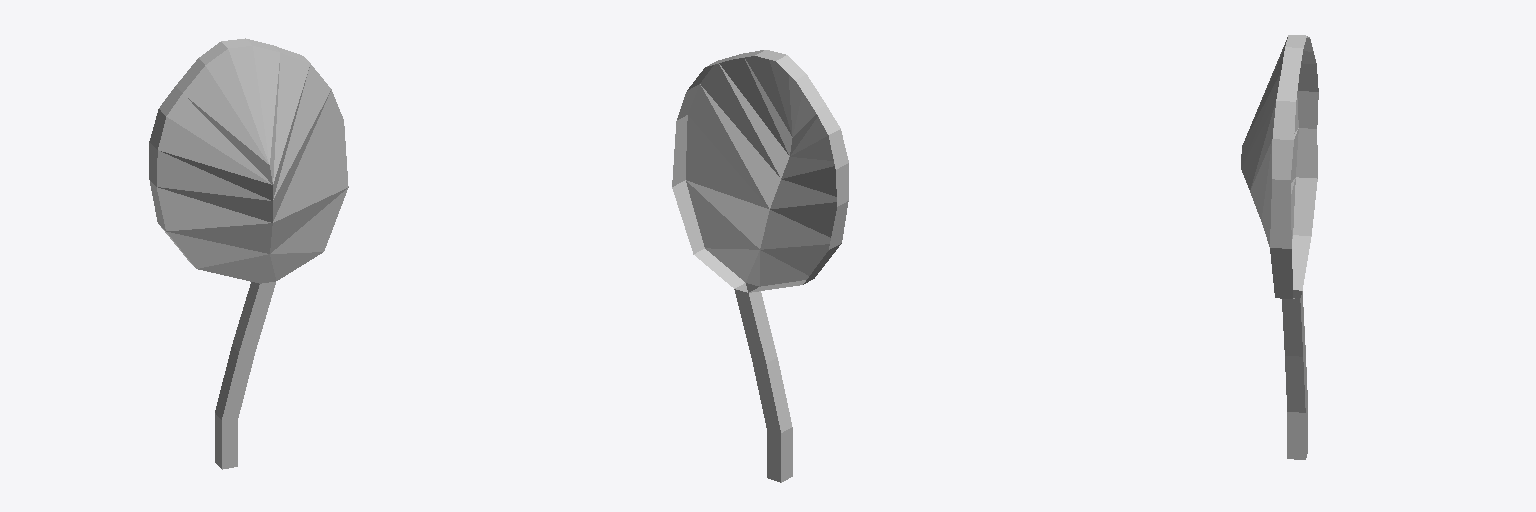
The model's file is arbre5.obj.
The picture shows the model from 3 angles: view 1: azimuth 30°, elevation 25°; view 2: azimuth 150°, elevation 25°; view 3: azimuth 270°, elevation 25°; orthographic projection.
Size of the model in its own units: 0.4667 by 1.04 by 0.1743.